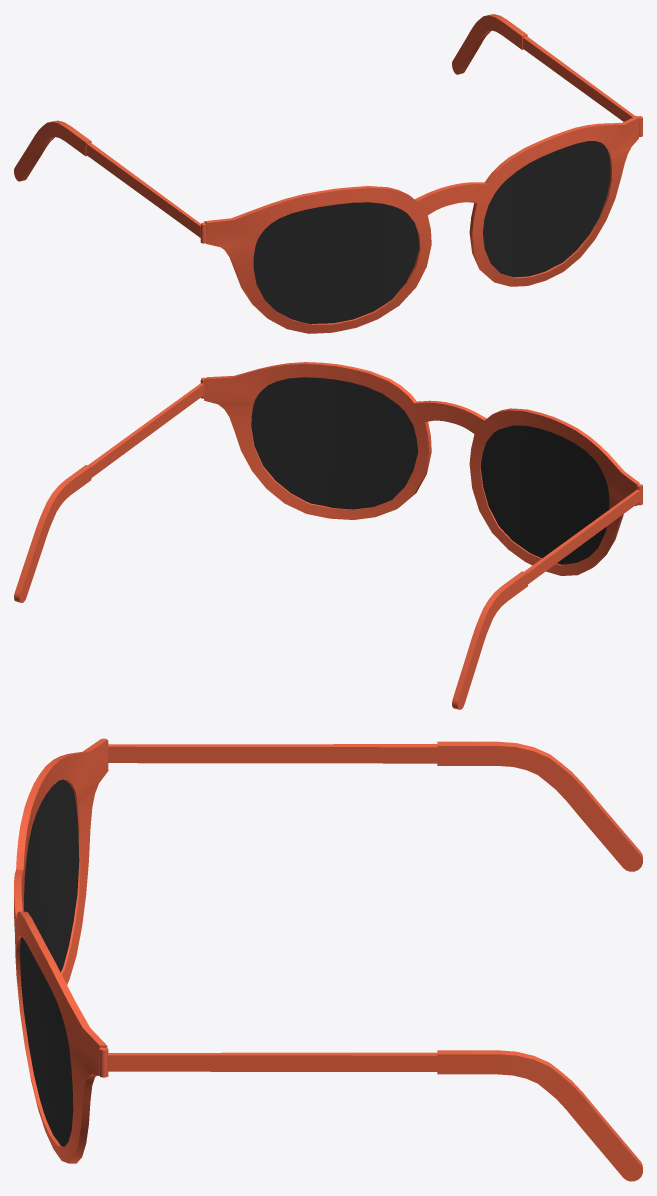
File: glasses-16.glb
The picture shows the model from 3 angles, top to bottom: view 1: azimuth 30°, elevation 25°; view 2: azimuth 150°, elevation 25°; view 3: azimuth 270°, elevation 25°; orthographic projection. The views are drawn at different scales.
Visible parts, largest first — view 1: glasses26.001; view 2: glasses26.001; view 3: glasses26.001.
Boxes of the visible parts, x1=… form: glasses26.001: x1=14, y1=14, x2=642, y2=333; glasses26.001: x1=14, y1=362, x2=642, y2=709; glasses26.001: x1=14, y1=738, x2=642, y2=1181.
Bounding box in the file's own units: 2.02 × 0.6409 × 1.71.
